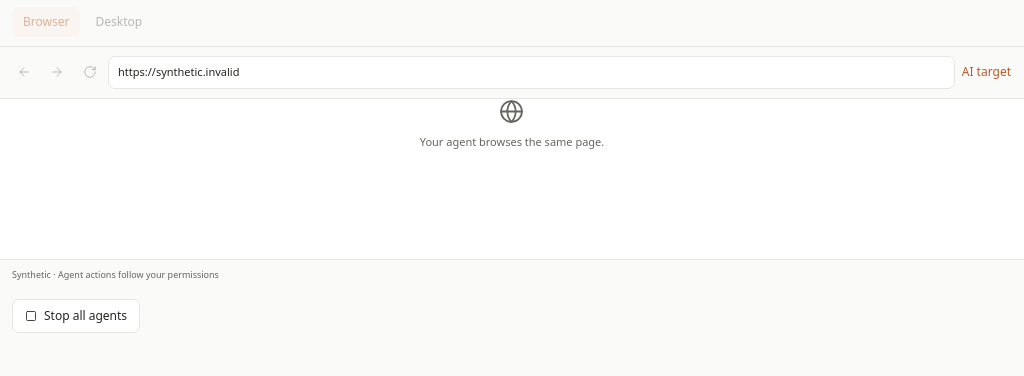
Test: keeps emergency stop available while restart ownership holds without unlocking
Click the button "Stop all agents".
click(76, 316)  # box 12,299 -> 140,333
Wait 1 ms
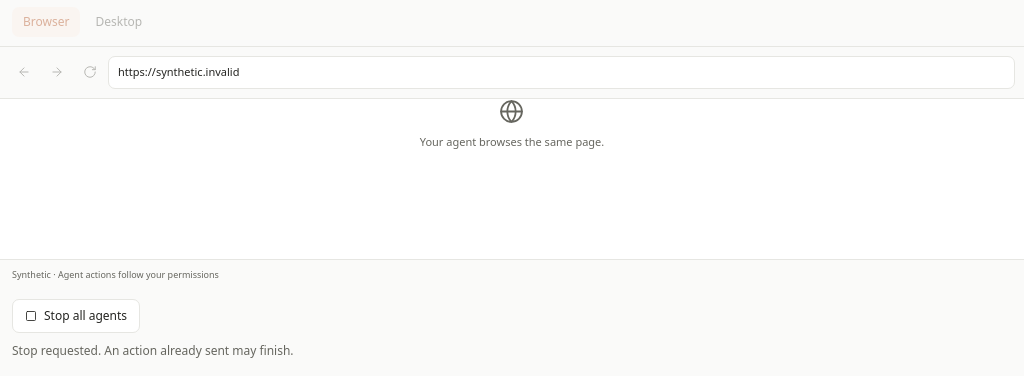
Result: the text "Stop requested. An action already sent may finish." is shown at 12,342 -> 294,359
